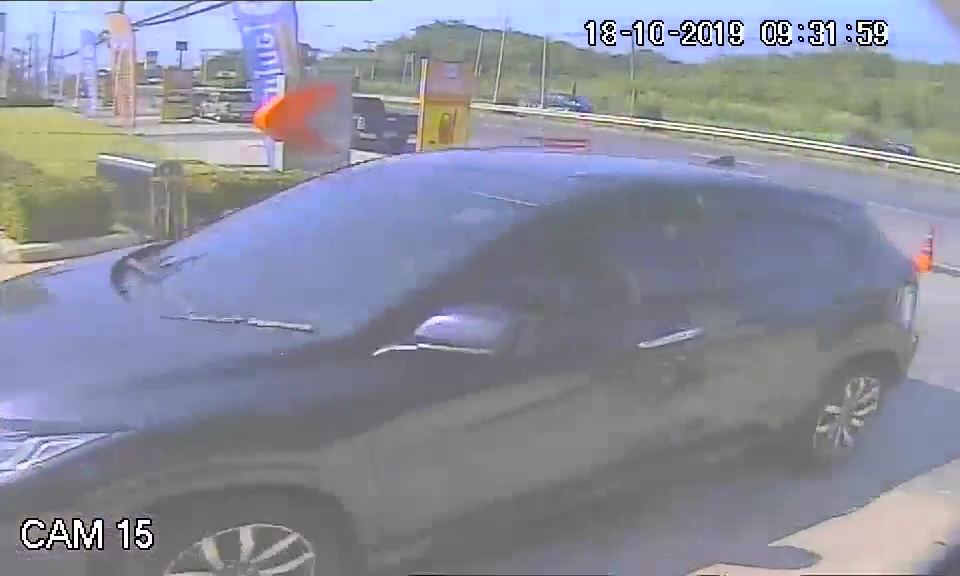pickup: (37, 151, 920, 511)
